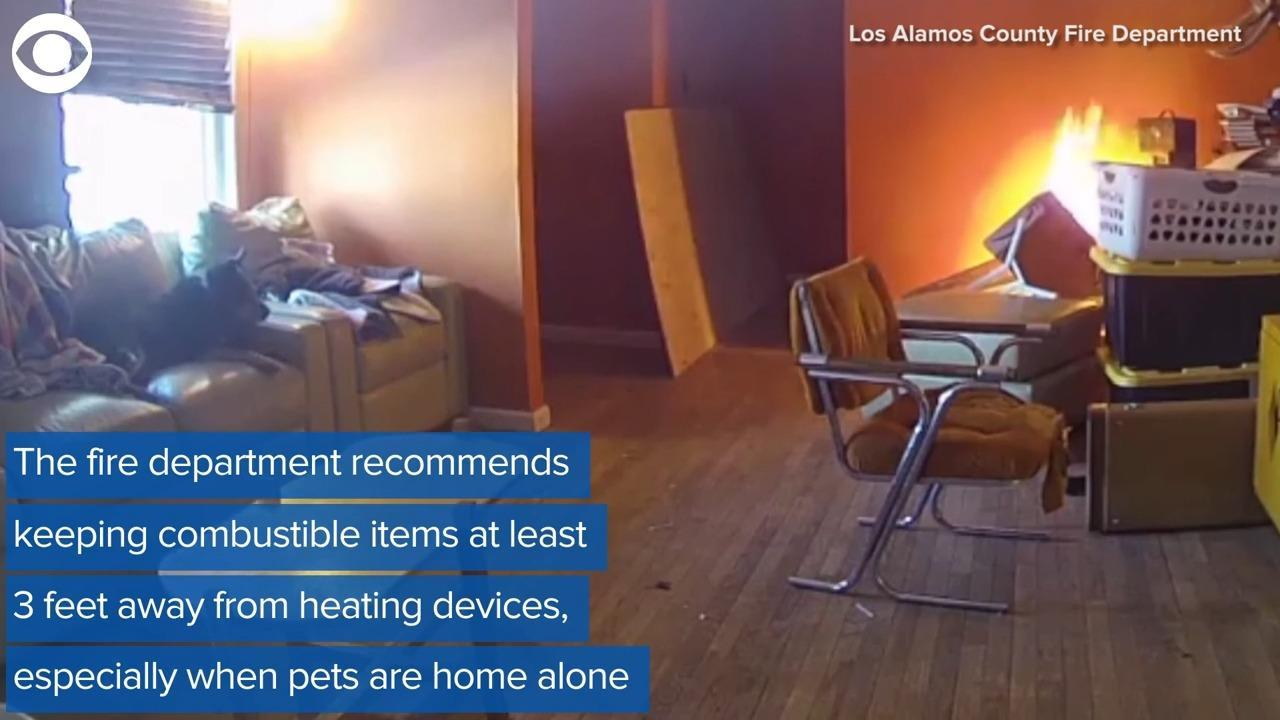fire: (1010, 88, 1117, 253)
